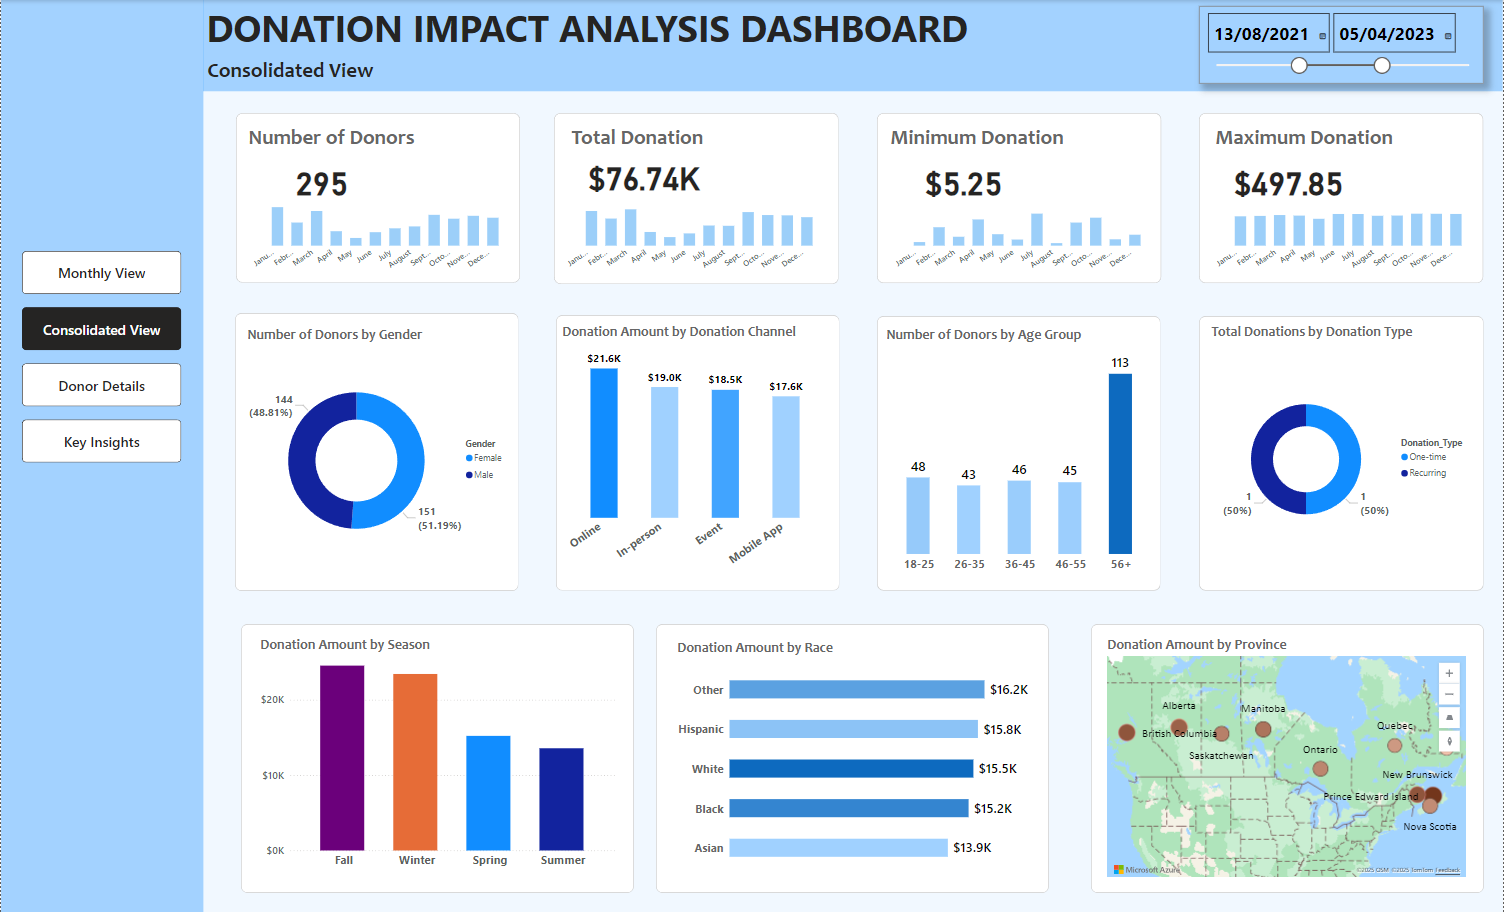

What the dashboard file says about the page in this screenshot:
{"tool":"powerbi","page":{"name":"Consolidated View","canvas":[2300,1400],"ordinal":1},"visuals":[{"type":"shape","box":[359.2,173.3,435,260],"z":0},{"type":"shape","box":[309.3,0,1990.7,139.8],"z":1000},{"type":"shape","box":[0,0,310,1399.9],"z":2000},{"type":"textbox","box":[309.3,0,1211.2,92.6],"z":3000},{"type":"card","fields":{"Values":["Cleaned_Master_Dataset.Number of Donors"]},"box":[373.5,241.6,235.2,68.3],"z":4000},{"type":"textbox","box":[373.5,186,294.1,55],"z":5000},{"type":"columnChart","fields":{"Y":["Cleaned_Master_Dataset.Number of Donors"],"Category":["Cleaned_Master_Dataset.Donation_Date.Variation.Date Hierarchy.Month"]},"box":[373.5,303.6,406,120],"z":6000},{"type":"shape","box":[846.6,172.4,436.2,262.1],"z":7000},{"type":"textbox","box":[867.9,186,294.1,55.6],"z":8000},{"type":"card","fields":{"Values":["Sum(Cleaned_Master_Dataset.Donation_Amount)"]},"box":[867.2,234.5,236.2,69],"z":9000},{"type":"columnChart","fields":{"Category":["Cleaned_Master_Dataset.Donation_Date.Variation.Date Hierarchy.Month"],"Y":["Sum(Cleaned_Master_Dataset.Donation_Amount)"]},"box":[855.1,303.6,406,120],"z":10000},{"type":"shape","box":[1342.4,173.3,435.5,260.7],"z":11000},{"type":"card","fields":{"Values":["Cleaned_Master_Dataset.Minimum Donation"]},"box":[1357.4,241.6,235.2,68.3],"z":12000},{"type":"textbox","box":[1357.4,186,294.1,55.6],"z":13000},{"type":"columnChart","fields":{"Y":["Cleaned_Master_Dataset.Minimum Donation"],"Category":["Cleaned_Master_Dataset.Donation_Date.Variation.Date Hierarchy.Month"]},"box":[1357.4,303.6,406,120],"z":14000},{"type":"shape","box":[1834.3,173.3,435.5,260.7],"z":15000},{"type":"textbox","box":[1854.9,186,294.1,55.6],"z":16000},{"type":"card","fields":{"Values":["Cleaned_Master_Dataset.Maximum Donation"]},"box":[1854.9,241.6,235.2,68.3],"z":17000},{"type":"shape","box":[358.6,479.3,434.5,425.9],"z":18000},{"type":"shape","box":[1669,955.2,601.7,412.1],"z":19000},{"type":"columnChart","fields":{"Y":["Cleaned_Master_Dataset.Maximum Donation"],"Category":["Cleaned_Master_Dataset.Donation_Date.Variation.Date Hierarchy.Month"]},"box":[1848.6,303.6,406,120],"z":20000},{"type":"donutChart","fields":{"Category":["Cleaned_Master_Dataset.Gender"],"Y":["Cleaned_Master_Dataset.Number of Donors"]},"box":[372.4,500,410.3,386.2],"z":21000},{"type":"shape","box":[1003.4,955.2,601.7,412.1],"z":22000},{"type":"shape","box":[1342.5,484.5,434.5,420.7],"z":23000},{"type":"columnChart","title":"Number of Donors by Age Group","fields":{"Y":["Cleaned_Master_Dataset.Number of Donors"],"Category":["Cleaned_Master_Dataset.Age_Group"]},"box":[1351.7,500,420.7,386.2],"z":24000},{"type":"azureMap","title":"Donation Amount by Province","fields":{"Category":["Cleaned_Master_Dataset.Province"],"Size":["Sum(Cleaned_Master_Dataset.Donation_Amount)"]},"box":[1689.7,974.1,560.3,374.1],"z":25000},{"type":"shape","box":[850.6,482.8,434.5,422.4],"z":26000},{"type":"shape","box":[1834.5,484.5,436.2,420.7],"z":27000},{"type":"shape","box":[367.2,955.2,601.7,412.1],"z":28000},{"type":"donutChart","title":"Total Donations by Donation Type","fields":{"Category":["Recurring_vs_OneTime_Donations.Donation_Type"],"Y":["CountNonNull(Recurring_vs_OneTime_Donations.Total_Donations)"]},"box":[1848.3,494.8,410.3,391.4],"z":29000},{"type":"columnChart","title":"Donation Amount by Donation Channel","fields":{"Category":["Cleaned_Master_Dataset.Donation_Channel"],"Y":["Sum(Cleaned_Master_Dataset.Donation_Amount)"]},"box":[855.2,494.8,415.5,391.4],"z":30000},{"type":"clusteredBarChart","title":"Donation Amount by Race","fields":{"Category":["Cleaned_Master_Dataset.Race"],"Y":["Sum(Cleaned_Master_Dataset.Donation_Amount)"]},"box":[1031,979.3,560.3,365.5],"z":31000},{"type":"columnChart","title":"Donation Amount by Season","fields":{"Category":["Cleaned_Master_Dataset.Donation_Season"],"Y":["Sum(Cleaned_Master_Dataset.Donation_Amount)"],"Series":["Cleaned_Master_Dataset.Donation_Season"]},"box":[391.4,974.1,555.2,365.5],"z":32000},{"type":"slicer","fields":{"Values":["Cleaned_Master_Dataset.Donation_Date"]},"box":[1834.5,8.6,436.2,119],"z":33000},{"type":"textbox","box":[310.3,82.8,300,56.9],"z":34000},{"type":"pageNavigator","box":[32.8,384.5,244.8,327.6],"z":35000}]}

Visuals, with their boxes in screenshot pixels (x1, y1, x2, y2), scaled from the page's 2300x1400 canvas onto the 1504x912 screenshot:
shape: l=235, t=113, r=519, b=282
shape: l=202, t=0, r=1503, b=91
shape: l=0, t=0, r=203, b=911
textbox: l=202, t=0, r=994, b=60
card - Cleaned_Master_Dataset.Number of Donors: l=244, t=157, r=398, b=202
textbox: l=244, t=121, r=437, b=157
columnChart - Cleaned_Master_Dataset.Number of Donors x Cleaned_Master_Dataset.Donation_Date.Variation.Date Hierarchy.Month: l=244, t=198, r=510, b=276
shape: l=554, t=112, r=839, b=283
textbox: l=568, t=121, r=760, b=157
card - Sum(Cleaned_Master_Dataset.Donation_Amount): l=567, t=153, r=722, b=198
columnChart - Cleaned_Master_Dataset.Donation_Date.Variation.Date Hierarchy.Month x Sum(Cleaned_Master_Dataset.Donation_Amount): l=559, t=198, r=825, b=276
shape: l=878, t=113, r=1163, b=283
card - Cleaned_Master_Dataset.Minimum Donation: l=888, t=157, r=1041, b=202
textbox: l=888, t=121, r=1080, b=157
columnChart - Cleaned_Master_Dataset.Minimum Donation x Cleaned_Master_Dataset.Donation_Date.Variation.Date Hierarchy.Month: l=888, t=198, r=1153, b=276
shape: l=1199, t=113, r=1484, b=283
textbox: l=1213, t=121, r=1405, b=157
card - Cleaned_Master_Dataset.Maximum Donation: l=1213, t=157, r=1367, b=202
shape: l=234, t=312, r=519, b=590
shape: l=1091, t=622, r=1485, b=891
columnChart - Cleaned_Master_Dataset.Maximum Donation x Cleaned_Master_Dataset.Donation_Date.Variation.Date Hierarchy.Month: l=1209, t=198, r=1474, b=276
donutChart - Cleaned_Master_Dataset.Gender x Cleaned_Master_Dataset.Number of Donors: l=244, t=326, r=512, b=577
shape: l=656, t=622, r=1050, b=891
shape: l=878, t=316, r=1162, b=590
"Number of Donors by Age Group" columnChart: l=884, t=326, r=1159, b=577
"Donation Amount by Province" azureMap: l=1105, t=635, r=1471, b=878
shape: l=556, t=315, r=840, b=590
shape: l=1200, t=316, r=1485, b=590
shape: l=240, t=622, r=634, b=891
"Total Donations by Donation Type" donutChart: l=1209, t=322, r=1477, b=577
"Donation Amount by Donation Channel" columnChart: l=559, t=322, r=831, b=577
"Donation Amount by Race" clusteredBarChart: l=674, t=638, r=1041, b=876
"Donation Amount by Season" columnChart: l=256, t=635, r=619, b=873
slicer - Cleaned_Master_Dataset.Donation_Date: l=1200, t=6, r=1485, b=83
textbox: l=203, t=54, r=399, b=91
pageNavigator: l=21, t=250, r=182, b=464
